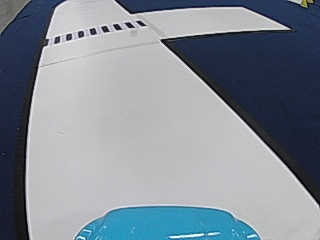CrossWalk: (47, 19, 145, 44)
